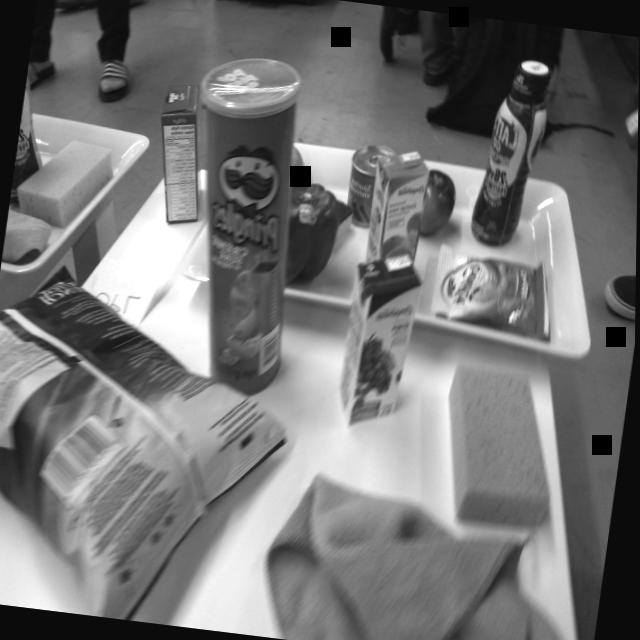apple: (417, 167, 462, 239)
cereal: (143, 77, 218, 230)
chocolate_drink: (466, 48, 560, 252), (10, 26, 58, 205)
cloth_opl: (254, 472, 603, 640)
crackers: (430, 247, 557, 340)
orange_juice: (364, 148, 431, 271)
paprika: (280, 184, 342, 288)
potato_chips: (0, 277, 286, 625)
pringles: (160, 53, 322, 398)
sausages: (343, 139, 393, 228)
sponge_opl: (429, 362, 570, 536)
